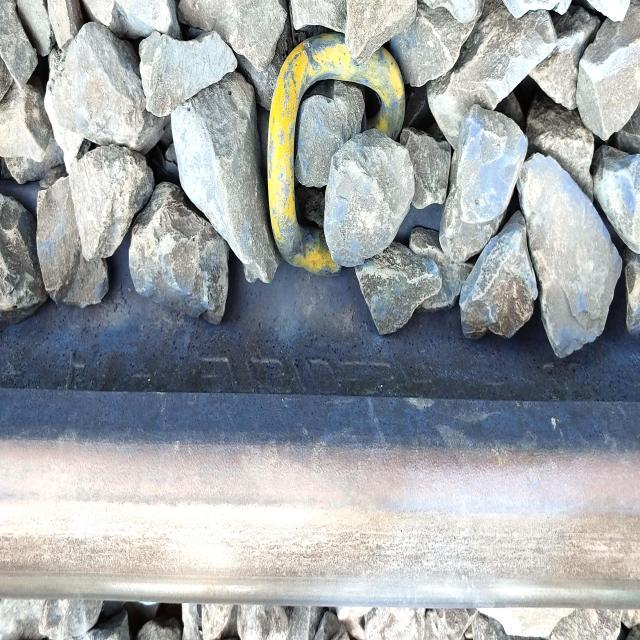Good Fasteners: (267, 34, 402, 275)
